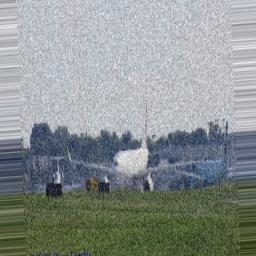Airplane: (67, 118, 216, 192)
